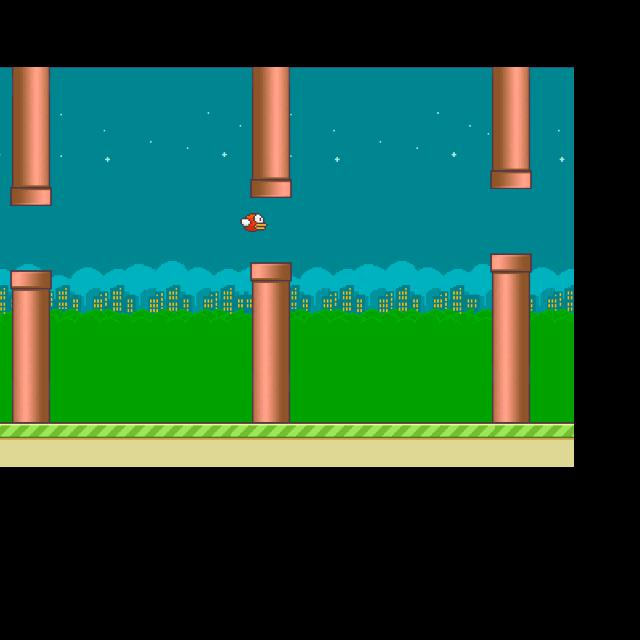bird: (241, 214, 267, 232)
pipedown: (489, 252, 532, 409), (250, 262, 291, 417), (10, 269, 51, 411)
pipeup: (250, 74, 291, 198), (11, 78, 51, 205), (489, 79, 532, 188)
